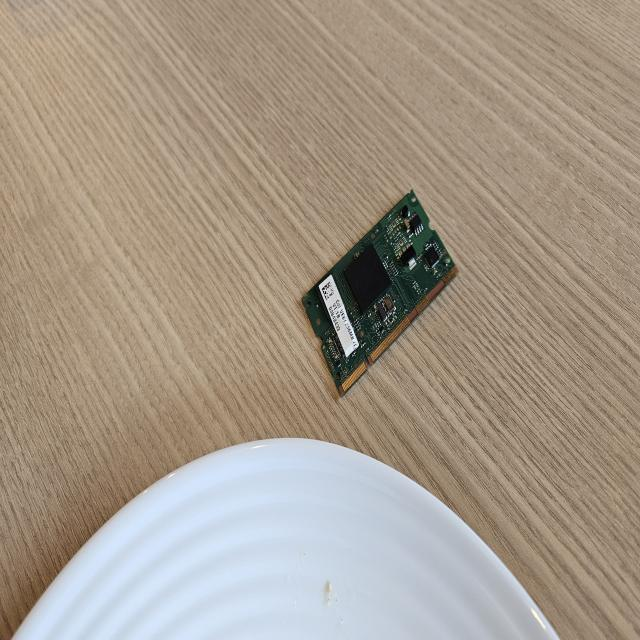som: (295, 180, 460, 402)
